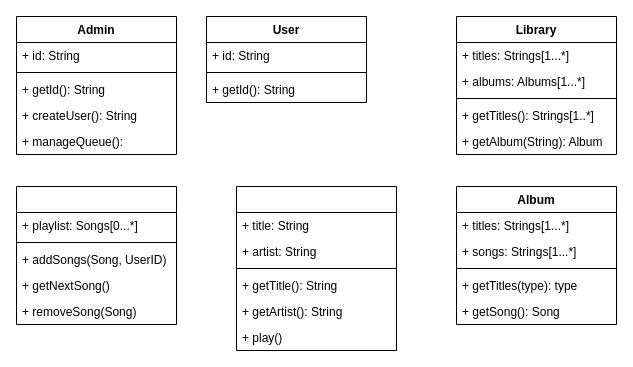
Image size: 633x367. Some labels were removed from this diagram. The shapes that lost their labels are listed below. From the top down, each one's box as (x1, y1, x2, y2) in pixels, then its label:
(16, 186, 176, 324): Queue
(236, 186, 396, 350): Song
